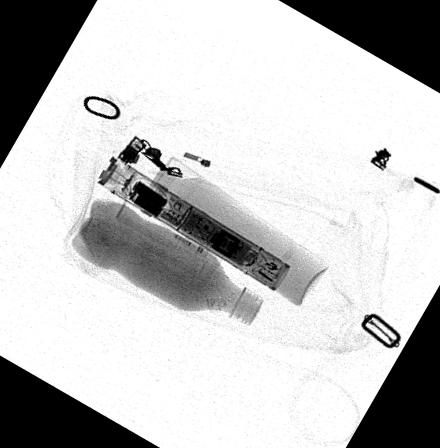Baton: (96, 153, 290, 291)
